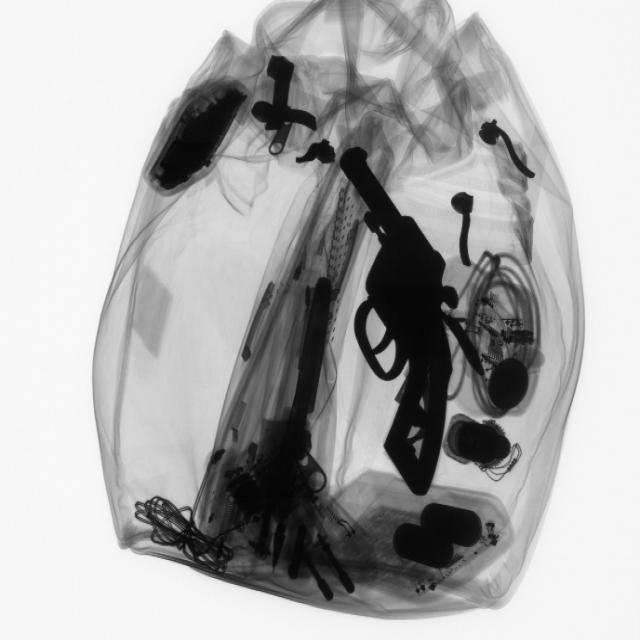GUN: (342, 146, 465, 501)
